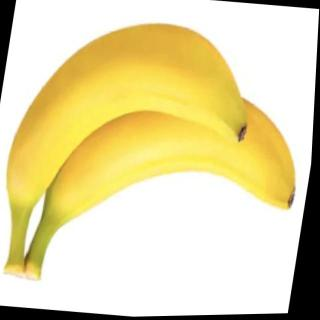banana: (0, 6, 264, 229), (40, 69, 316, 245)
